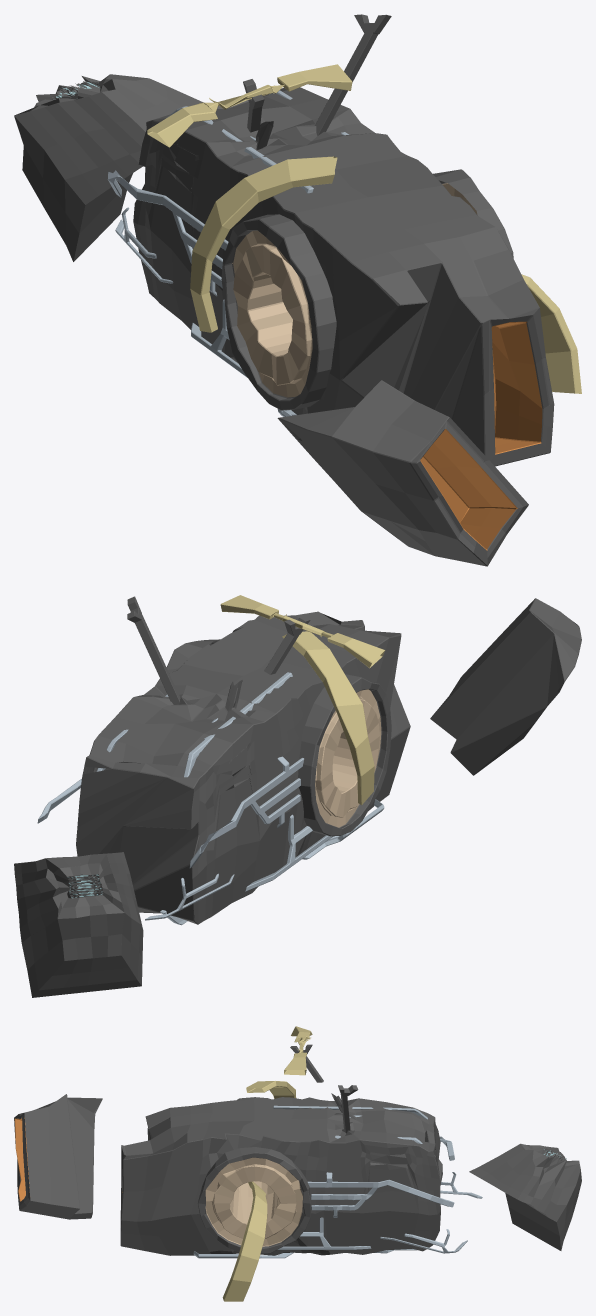
The model's file is fleetship destroyed 1.fbx.
3 renders of one model, top to bottom at view 1: azimuth 30°, elevation 25°; view 2: azimuth 150°, elevation 25°; view 3: azimuth 270°, elevation 25°, orthographic. The views are drawn at different scales.
Visible parts, largest first — view 1: Cube.016, Cube.019, Cube.002, Cube.014, Cube.018, Cube.017, Cube.005, Cube.003, Cube.001, Cube.007, Cube.008; view 2: Cube.016, Cube.014, Cube.019, Cube.002, Cube.018, Cube.003, Cube.017, Cube.001, Cube.007, Cube.006, Cube.015, Cube.008 (+1 smaller); view 3: Cube.016, Cube.019, Cube.002, Cube.014, Cube.005, Cube.010, Cube.017, Cube.018, Cube.012, Cube.006, Cube.013, Cube.001 (+1 smaller).
Boxes of the visible parts, x1=… form: Cube.016: x1=133, y1=87, x2=554, y2=466; Cube.019: x1=277, y1=380, x2=528, y2=566; Cube.002: x1=221, y1=169, x2=513, y2=410; Cube.014: x1=14, y1=74, x2=203, y2=261; Cube.018: x1=190, y1=156, x2=337, y2=332; Cube.017: x1=147, y1=64, x2=352, y2=147; Cube.005: x1=521, y1=274, x2=581, y2=393; Cube.003: x1=107, y1=170, x2=228, y2=296; Cube.001: x1=314, y1=14, x2=391, y2=135; Cube.007: x1=191, y1=299, x2=247, y2=377; Cube.008: x1=115, y1=207, x2=173, y2=283; Cube.016: x1=76, y1=611, x2=410, y2=924; Cube.014: x1=14, y1=852, x2=143, y2=997; Cube.019: x1=430, y1=598, x2=581, y2=775; Cube.002: x1=166, y1=639, x2=391, y2=836; Cube.018: x1=282, y1=631, x2=374, y2=805; Cube.003: x1=189, y1=756, x2=304, y2=868; Cube.017: x1=220, y1=595, x2=385, y2=668; Cube.001: x1=127, y1=596, x2=180, y2=704; Cube.007: x1=245, y1=814, x2=332, y2=891; Cube.006: x1=96, y1=672, x2=292, y2=777; Cube.015: x1=264, y1=616, x2=310, y2=674; Cube.008: x1=145, y1=873, x2=234, y2=920; Cube.016: x1=120, y1=1093, x2=442, y2=1255; Cube.019: x1=14, y1=1094, x2=102, y2=1219; Cube.002: x1=198, y1=1097, x2=310, y2=1253; Cube.014: x1=469, y1=1143, x2=581, y2=1250; Cube.005: x1=222, y1=1181, x2=267, y2=1301; Cube.010: x1=307, y1=1172, x2=454, y2=1217; Cube.017: x1=284, y1=1026, x2=312, y2=1075; Cube.018: x1=246, y1=1081, x2=296, y2=1098; Cube.012: x1=277, y1=1217, x2=371, y2=1249; Cube.006: x1=273, y1=1105, x2=427, y2=1143; Cube.013: x1=380, y1=1229, x2=467, y2=1253; Cube.001: x1=338, y1=1085, x2=358, y2=1133.
Bounding box in the file's own units: 58322 × 45431 × 121063.
